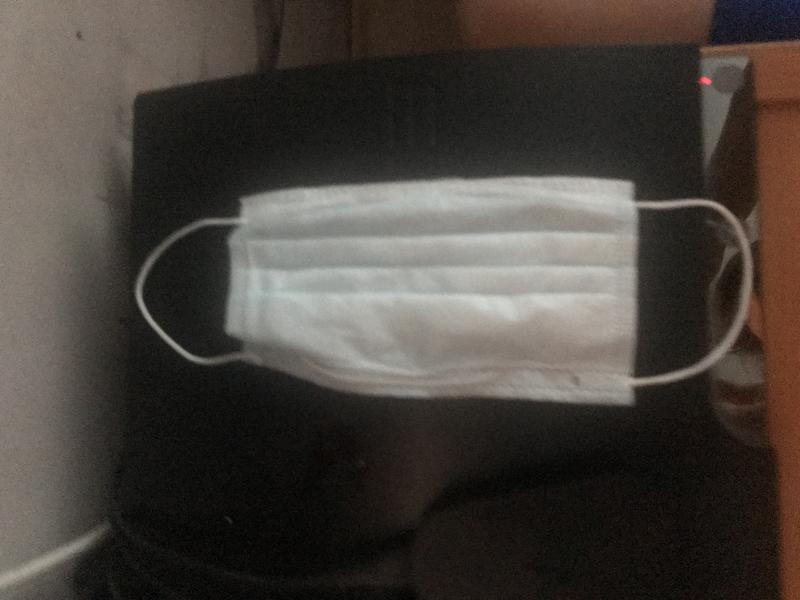medical_mask: (136, 179, 754, 408)
